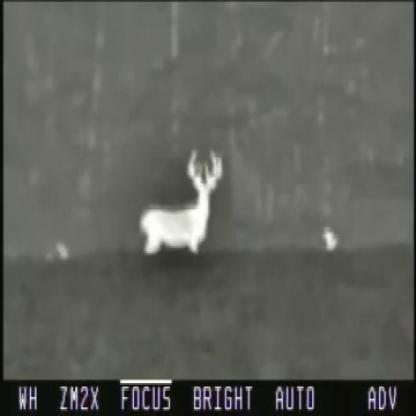rehkitze: (141, 150, 226, 256)
